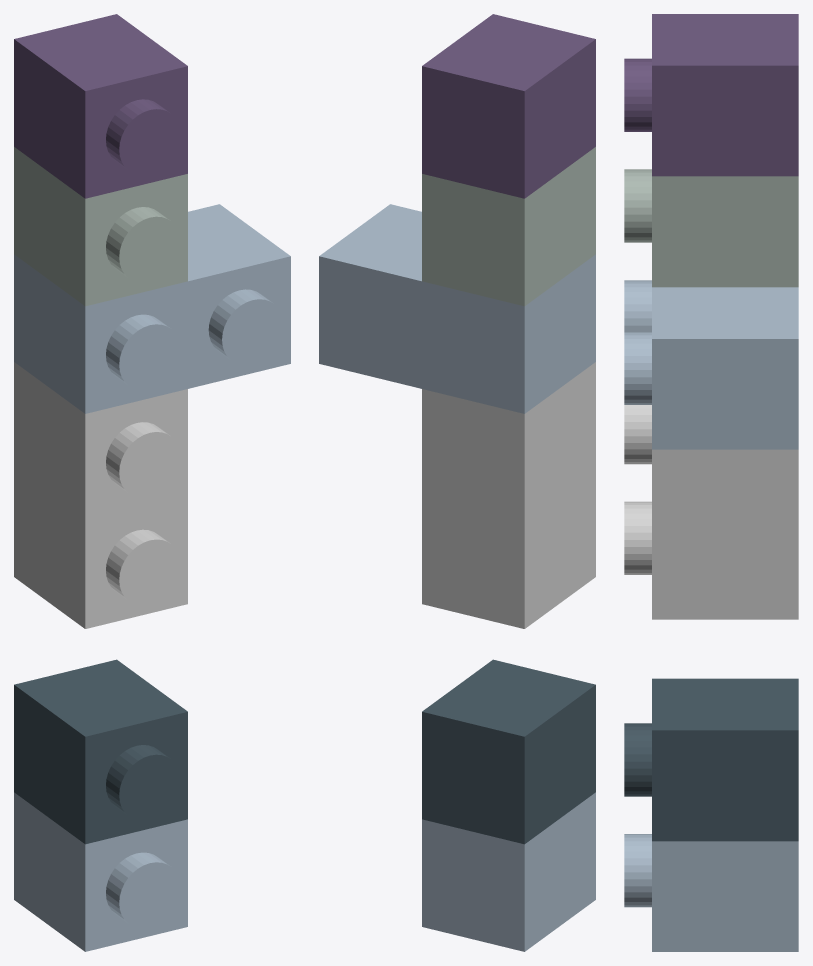
Rendered from current.glb.
3 views of the same model, side by side, from view 1: azimuth 30°, elevation 25°; view 2: azimuth 150°, elevation 25°; view 3: azimuth 270°, elevation 25° (orthographic). The views are drawn at different scales.
Parts seen in each view (by area): view 1: world; view 2: world; view 3: world.
Boxes of the visible parts, bbox=[...] form: world: bbox=[14, 14, 290, 951]; world: bbox=[319, 14, 595, 951]; world: bbox=[624, 14, 798, 951].
Bounding box in the file's own units: 16 × 64 × 11.4.
